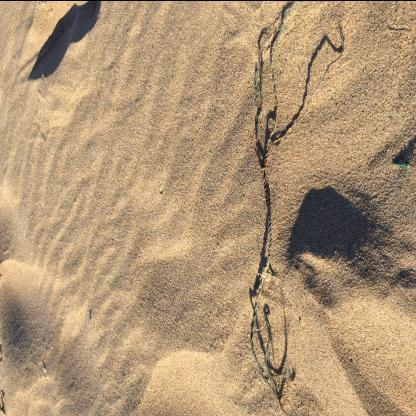diger: (250, 120, 292, 382)
